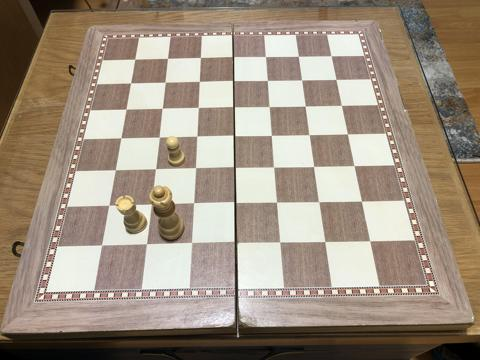xcorner: (328, 50, 340, 62), (262, 51, 274, 63), (229, 51, 241, 63), (196, 52, 208, 64), (163, 52, 175, 64), (130, 53, 142, 65), (298, 74, 310, 86), (264, 75, 276, 87), (229, 75, 241, 87), (195, 76, 207, 88), (160, 76, 172, 88), (125, 77, 137, 89), (338, 100, 350, 112), (302, 100, 314, 112), (266, 101, 278, 113), (193, 102, 205, 114), (157, 103, 169, 115), (121, 103, 133, 115), (306, 129, 318, 141), (268, 130, 280, 142), (230, 130, 242, 142), (192, 131, 204, 143), (154, 132, 166, 144), (115, 132, 127, 144), (350, 160, 362, 172), (310, 161, 322, 173), (270, 162, 282, 174), (230, 162, 242, 174), (190, 163, 202, 175), (150, 164, 162, 176), (110, 164, 122, 176), (315, 196, 327, 208), (273, 197, 285, 209), (231, 198, 243, 210), (188, 199, 200, 211), (146, 199, 158, 211), (103, 200, 115, 212), (365, 235, 377, 247), (321, 236, 333, 248), (276, 237, 288, 249), (231, 238, 243, 250), (141, 239, 153, 251), (96, 240, 108, 252), (295, 51, 307, 62), (333, 74, 344, 86), (344, 129, 356, 140), (357, 196, 369, 207), (186, 239, 198, 250), (230, 102, 241, 113)
